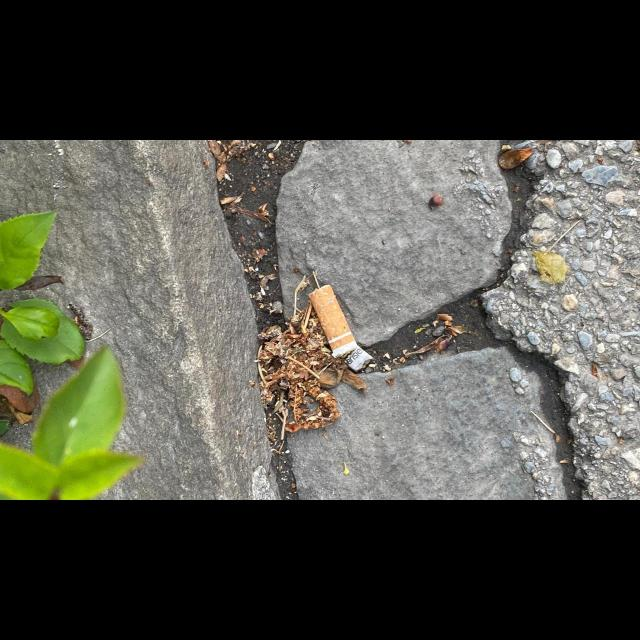cigarette: (308, 284, 374, 373)
